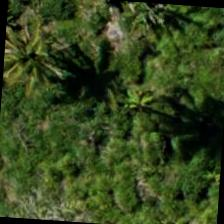Kelapa_Sawit: (0, 16, 81, 111)
